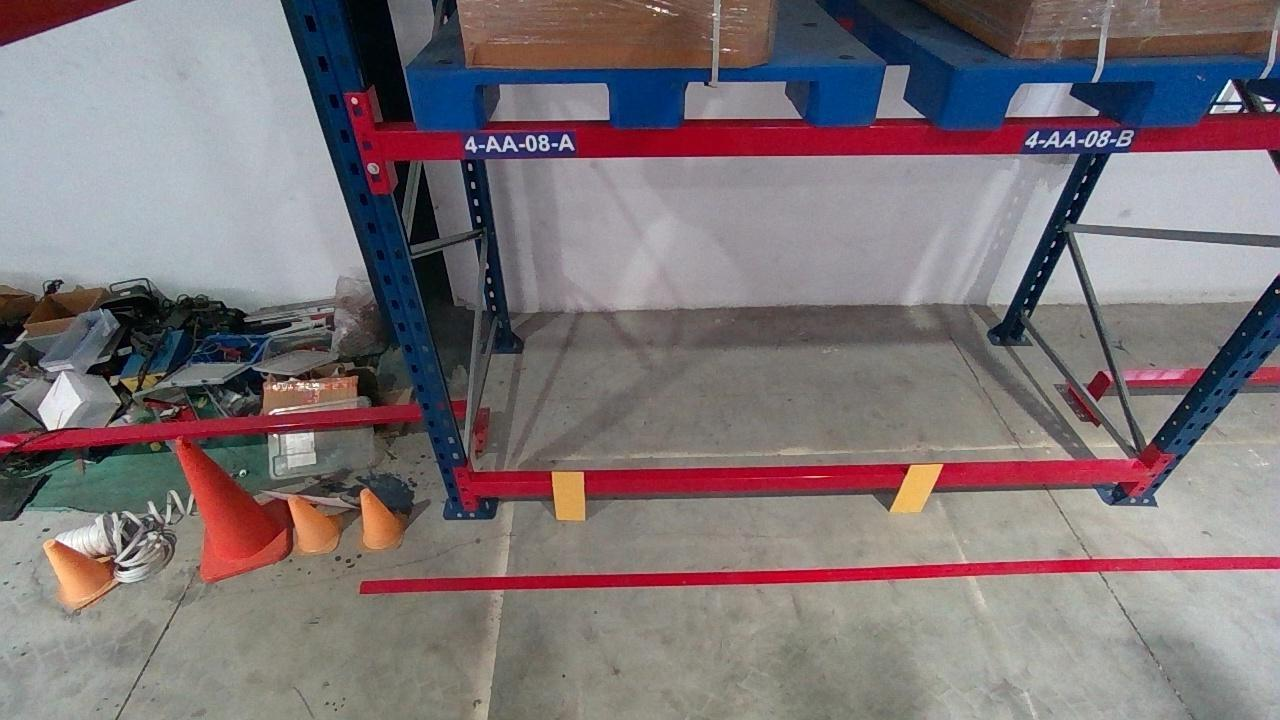h_rack: (377, 121, 1277, 157), (476, 466, 1149, 496)
orange_strip: (889, 463, 946, 512), (551, 471, 584, 520)
red_line: (355, 554, 1277, 592)
small_pallet: (403, 64, 888, 124), (944, 64, 1279, 124)
